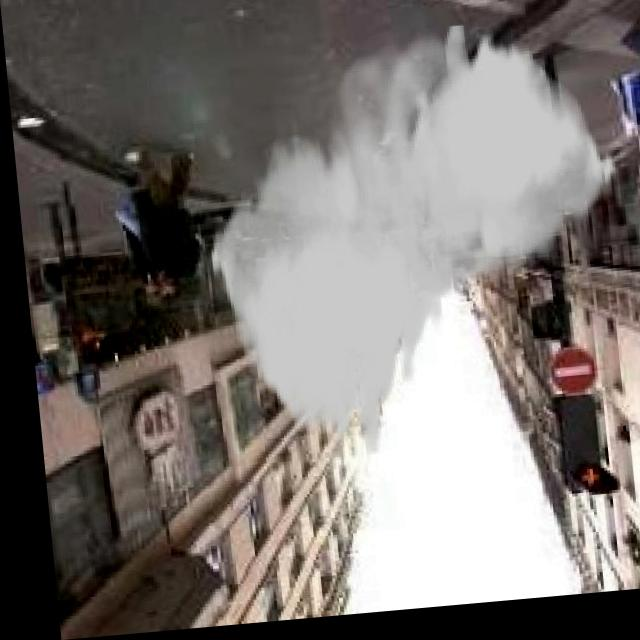Smoke: (188, 21, 634, 470)
